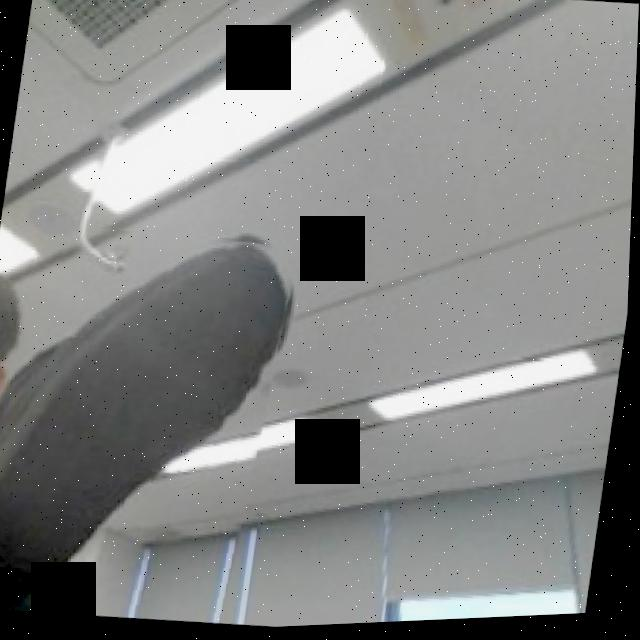shoe: (0, 207, 304, 636)
